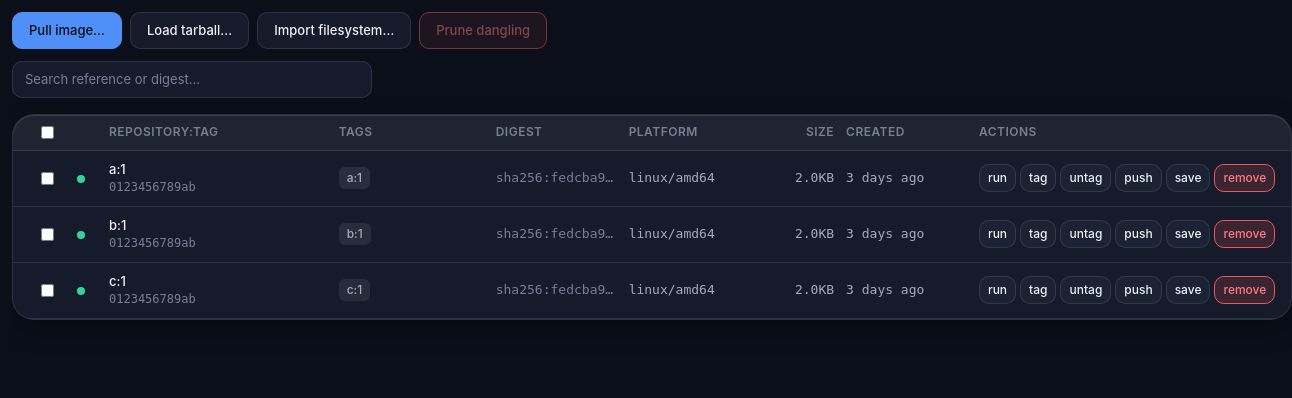
Test: ImagesScreen — compare filesystems (plan-docker_management_app/REQ-63) › disables "Compare filesystems…" again once a third image is also selected
This screenshot has width=1292, height=398.
Click the 1st checkbox named "Select row".
click(48, 178)  # box [41,172,54,185]
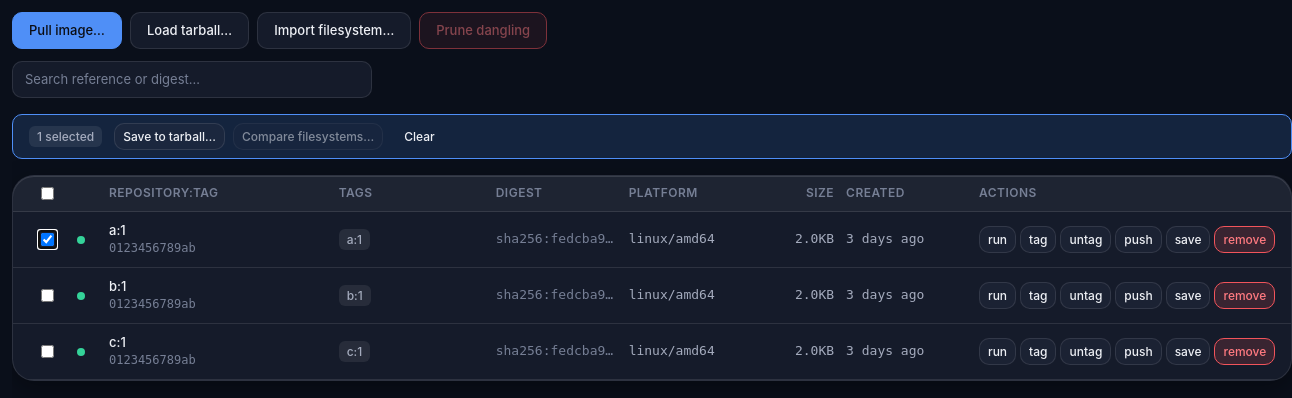
Click the 2nd checkbox named "Select row".
click(48, 296)  # box [41,289,54,302]
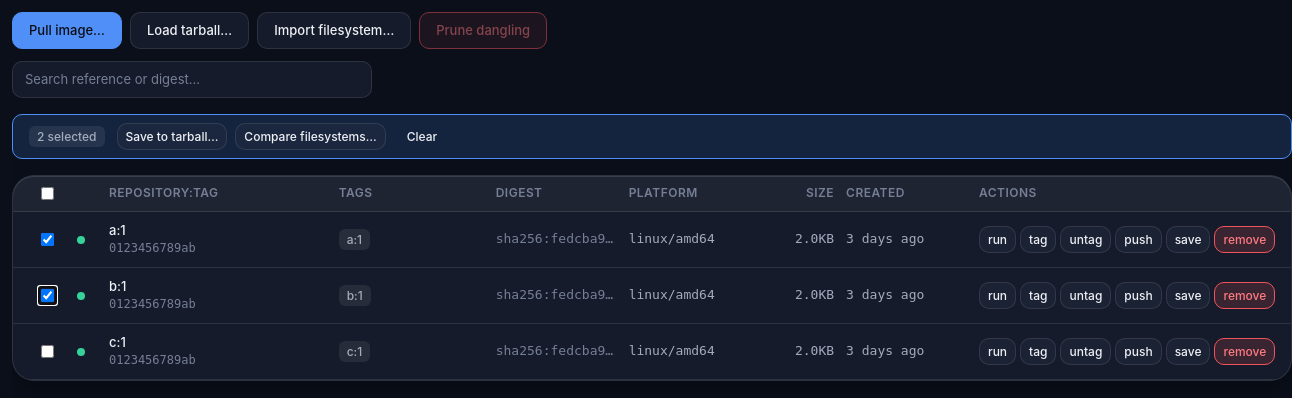
Click the 3rd checkbox named "Select row".
click(48, 352)  # box [41,345,54,358]
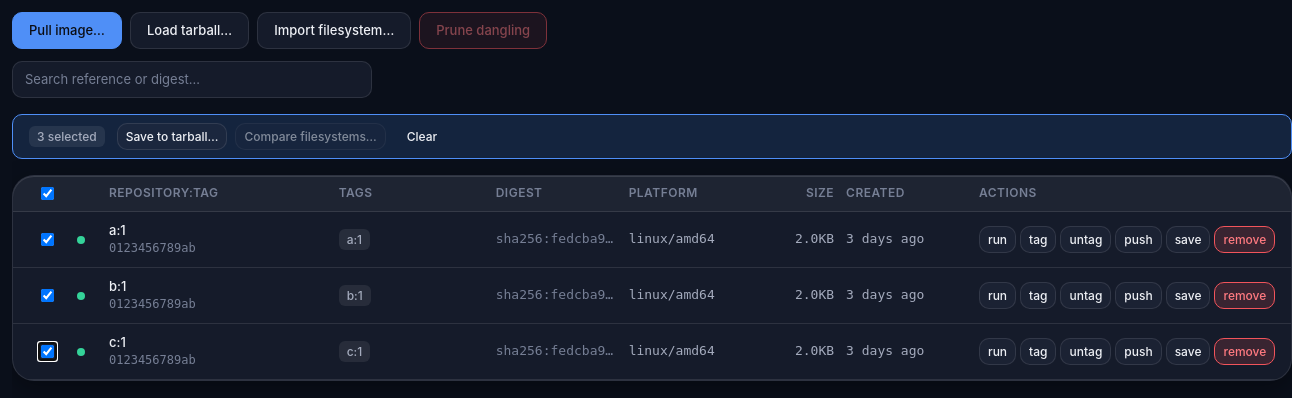
Check: the button "Compare filesystems…" is disabled, box [236,123,386,150]
